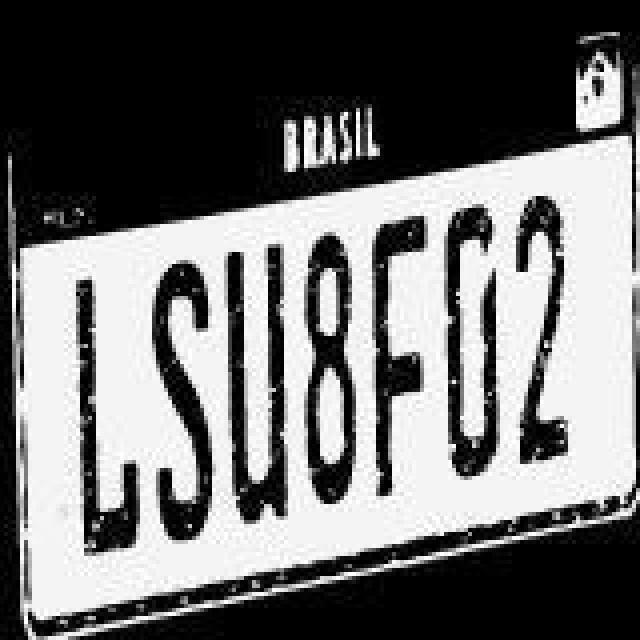2: (500, 204, 564, 492)
8: (296, 220, 352, 516)
D: (432, 210, 496, 502)
F: (360, 208, 424, 512)
L: (66, 260, 142, 556)
S: (148, 254, 220, 554)
U: (222, 226, 290, 526)
